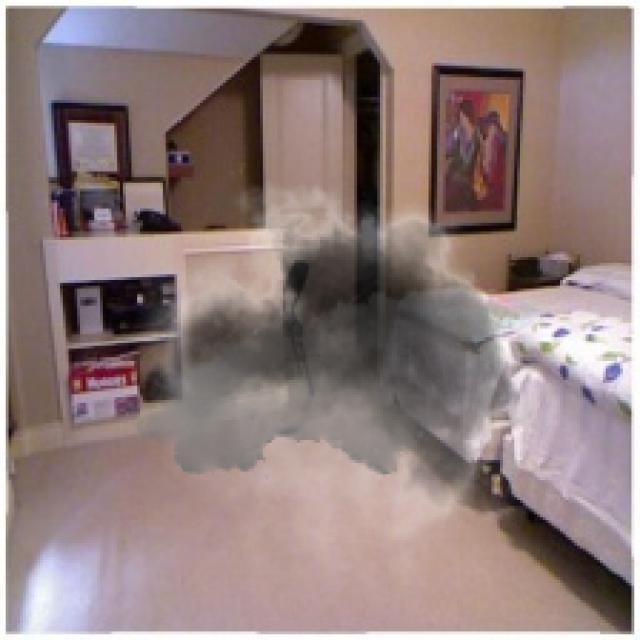smoke: (132, 163, 557, 588)
